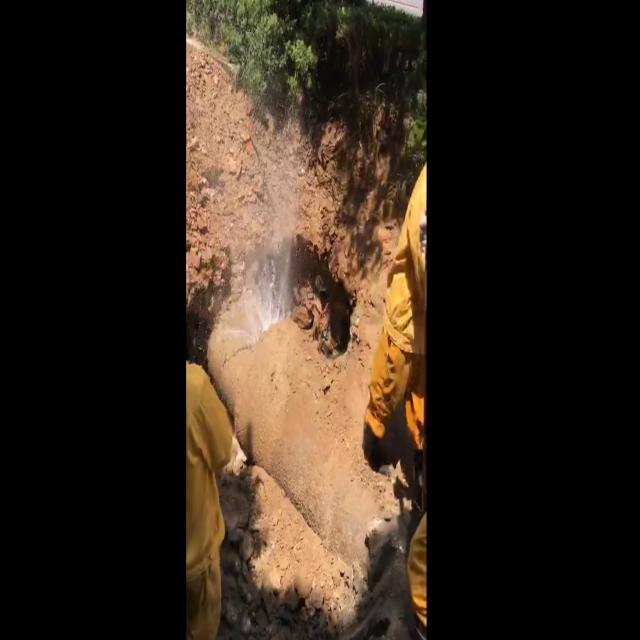leak: (216, 238, 292, 340)
